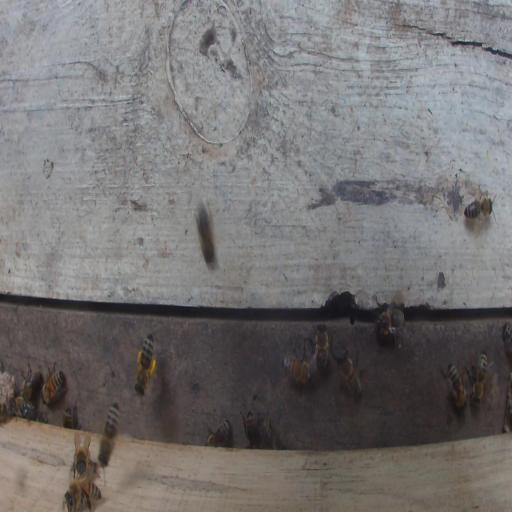nonpollenbee: (193, 199, 216, 270), (98, 402, 120, 467), (337, 349, 363, 400), (66, 475, 101, 511), (447, 363, 467, 412), (282, 355, 313, 386), (471, 353, 488, 404), (42, 372, 65, 405), (376, 308, 404, 335), (203, 422, 230, 448), (74, 433, 90, 475), (464, 197, 493, 220), (257, 413, 275, 450), (315, 323, 328, 374), (20, 372, 44, 399), (9, 396, 35, 419), (246, 412, 260, 448), (503, 324, 512, 357), (63, 407, 72, 429)
pollenbee: (135, 333, 156, 396)
